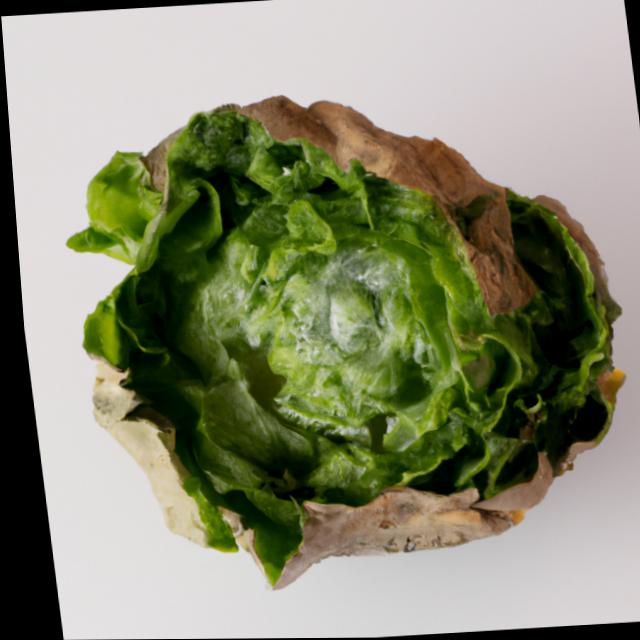-K: (32, 64, 640, 613)
